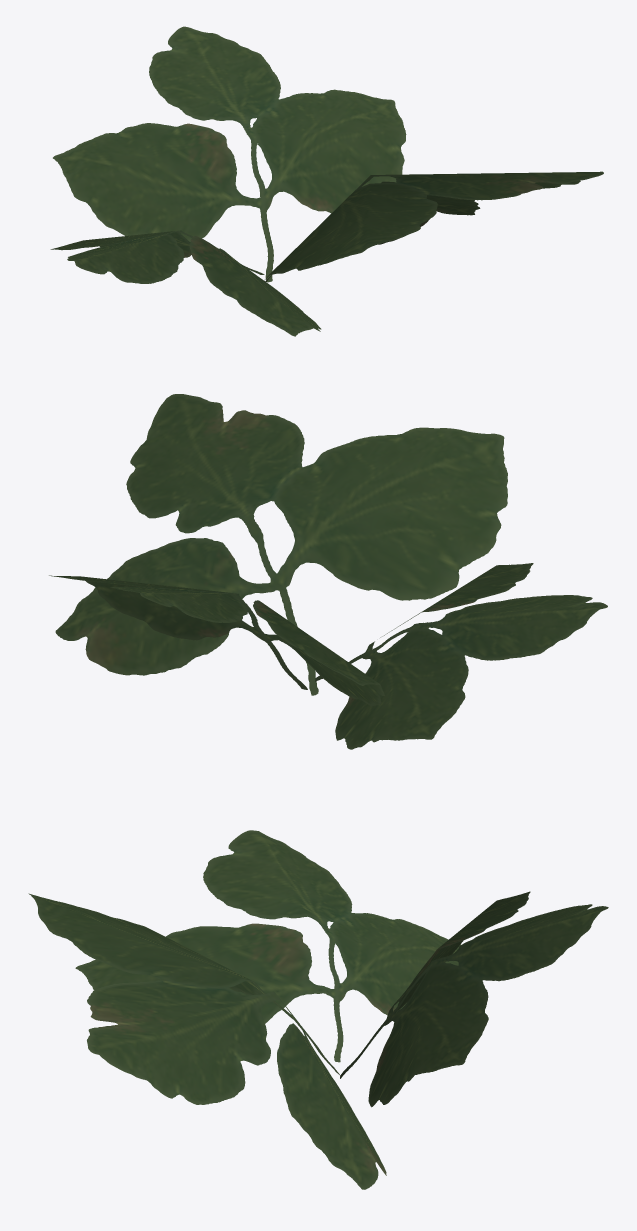
The model's file is MSH_fwOF_ForestPlant_B_07.fbx.
3 renders of one model, top to bottom at view 1: azimuth 30°, elevation 25°; view 2: azimuth 150°, elevation 25°; view 3: azimuth 270°, elevation 25°, orthographic. The views are drawn at different scales.
Parts seen in each view (by area): view 1: MSH_fwOF_ForestPlant_B_07; view 2: MSH_fwOF_ForestPlant_B_07; view 3: MSH_fwOF_ForestPlant_B_07.
Boxes of the visible parts, box(x1,y1,x2,y2) form: MSH_fwOF_ForestPlant_B_07: box(50, 26, 603, 336); MSH_fwOF_ForestPlant_B_07: box(49, 394, 607, 749); MSH_fwOF_ForestPlant_B_07: box(28, 830, 608, 1189).
Size of the model in its own units: 0.3051 by 0.1127 by 0.2862.
